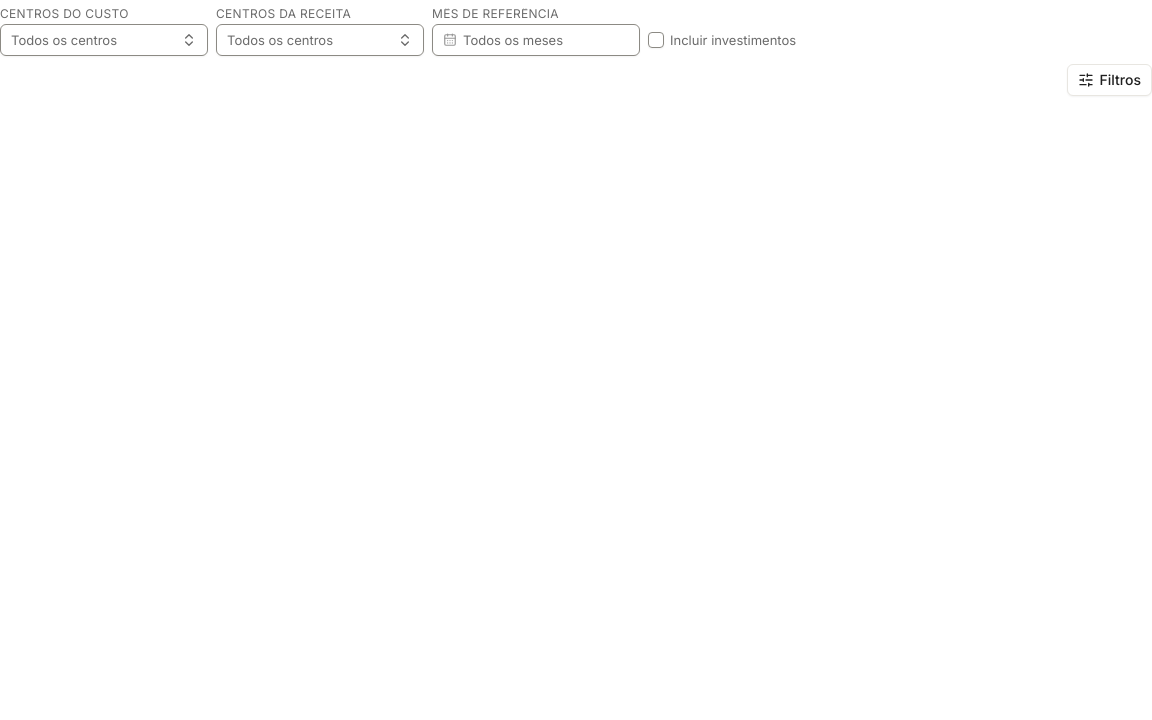
it: FiltrosCustoReceitaBarra: a escada de centro e etapa › o campo de centros oferece só as raízes
Click the dropdown labelled "Todos os centros" below "Centros do custo".
click(104, 40)  # box x1=0 y1=24 x2=208 y2=56
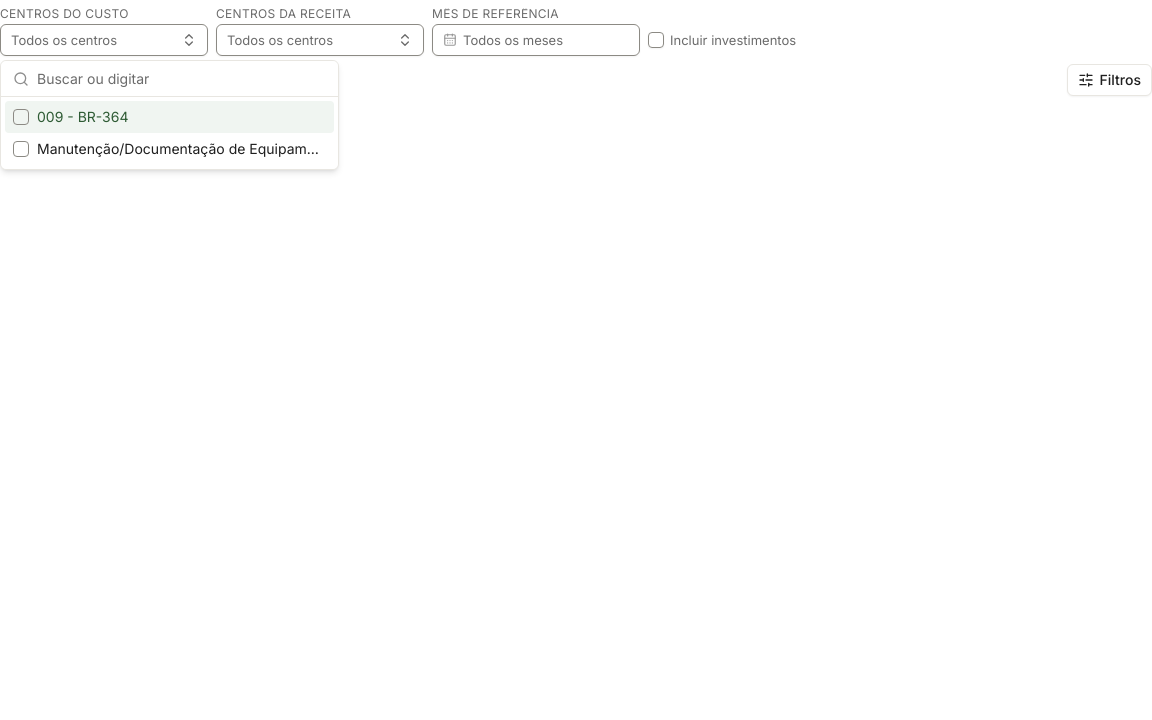
Now the options read "009 - BR-364", "Manutenção/Documentação de Equipamentos", in this order, box x1=5 y1=101 x2=334 y2=133; x1=13 y1=140 x2=338 y2=157
